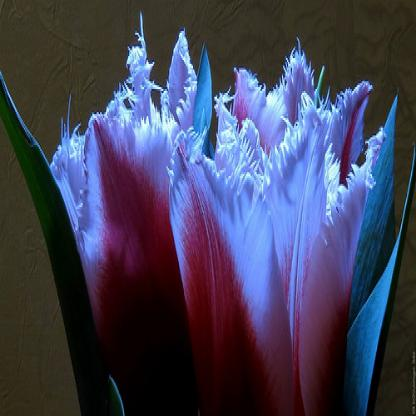TULIP: (49, 28, 394, 404)
